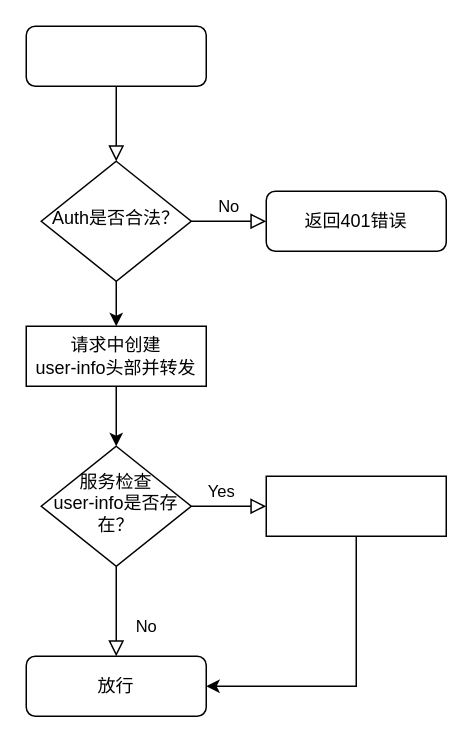
This 473x743 diagram has some shape labels left out. The centre of each missing label's shape, as x and y in pixels:
"发送请求" goes at point 115,55.
"存入ThreadLocal" goes at point 355,505.
